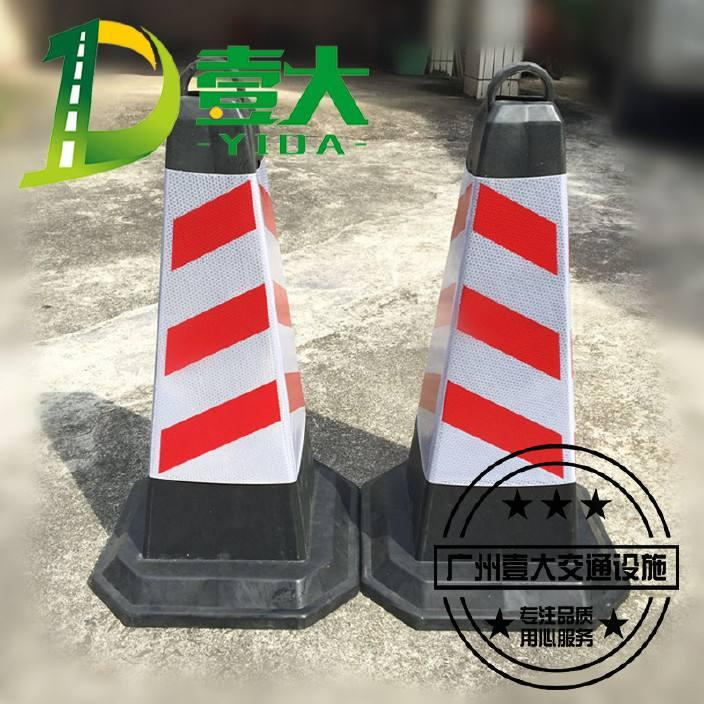sign: (91, 46, 365, 639), (406, 57, 617, 629)
